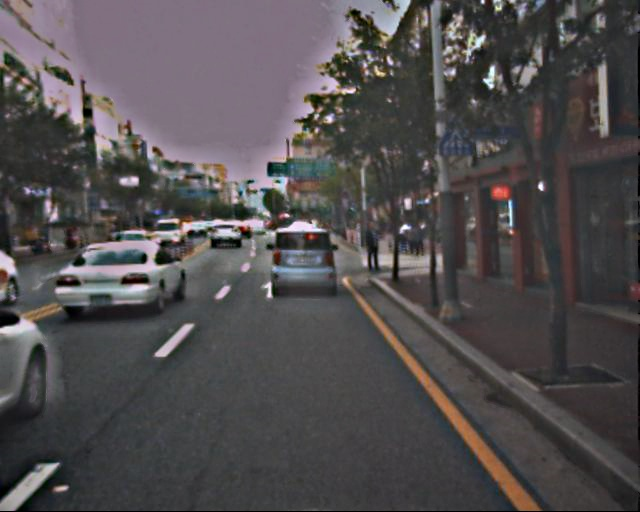person: (363, 217, 385, 270), (399, 222, 423, 257)
